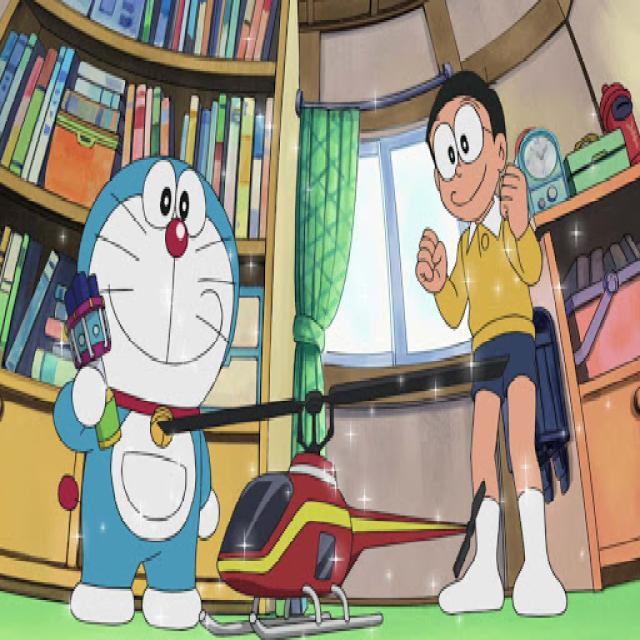doraemon: (65, 140, 245, 462)
nobita: (419, 60, 520, 253)
